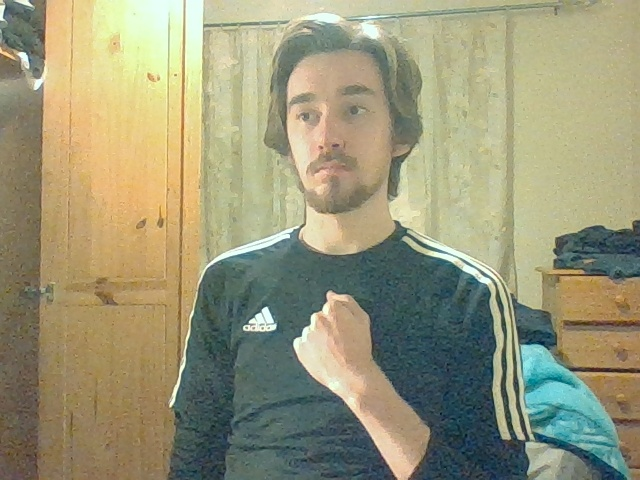my: (294, 290, 374, 383)
